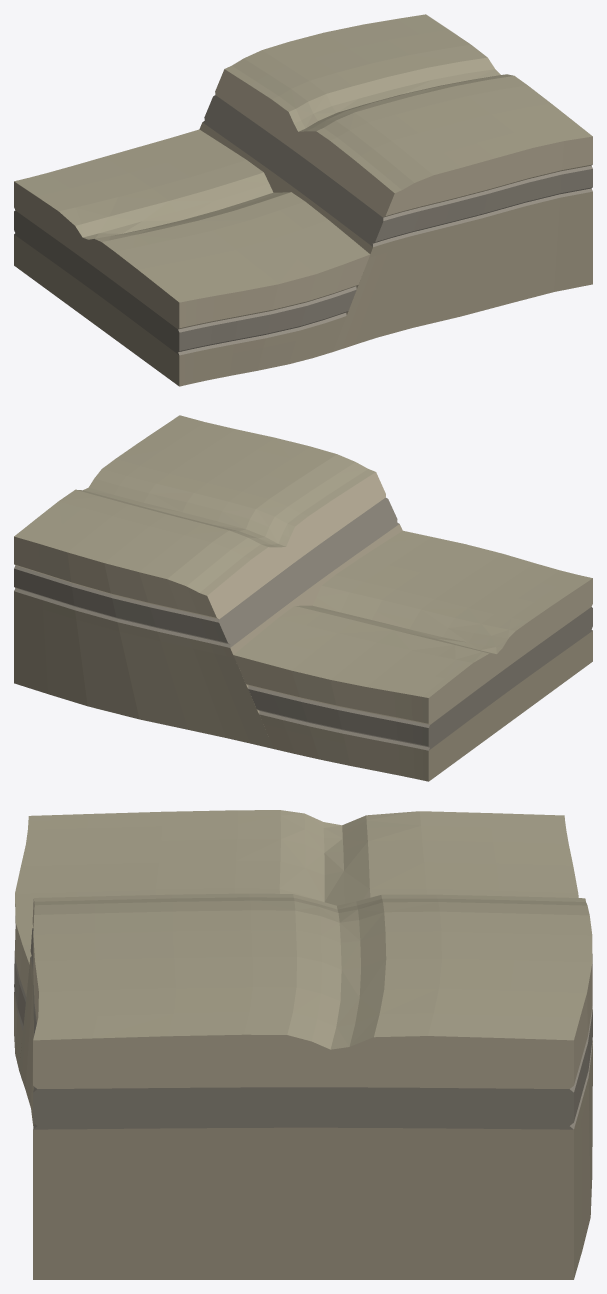
Rendered from fault-scarp.glb.
3 views of the same model, one above another, from view 1: azimuth 30°, elevation 25°; view 2: azimuth 150°, elevation 25°; view 3: azimuth 270°, elevation 25° (orthographic). The views are drawn at different scales.
Visible parts, largest first — view 1: footwall-high-ground-and-weathered-scarp, hanging-wall-downthrown-continuous-terrain; view 2: footwall-high-ground-and-weathered-scarp, hanging-wall-downthrown-continuous-terrain; view 3: footwall-high-ground-and-weathered-scarp, hanging-wall-downthrown-continuous-terrain.
Part boxes in pixels (x1,y1,x2,y2): footwall-high-ground-and-weathered-scarp: (199,14,592,351); hanging-wall-downthrown-continuous-terrain: (14,129,370,386); footwall-high-ground-and-weathered-scarp: (14,415,402,748); hanging-wall-downthrown-continuous-terrain: (233,530,592,781); footwall-high-ground-and-weathered-scarp: (19,893,592,1279); hanging-wall-downthrown-continuous-terrain: (14,810,578,1070).
Bounding box in the file's own units: 8 × 2.82 × 5.97.
